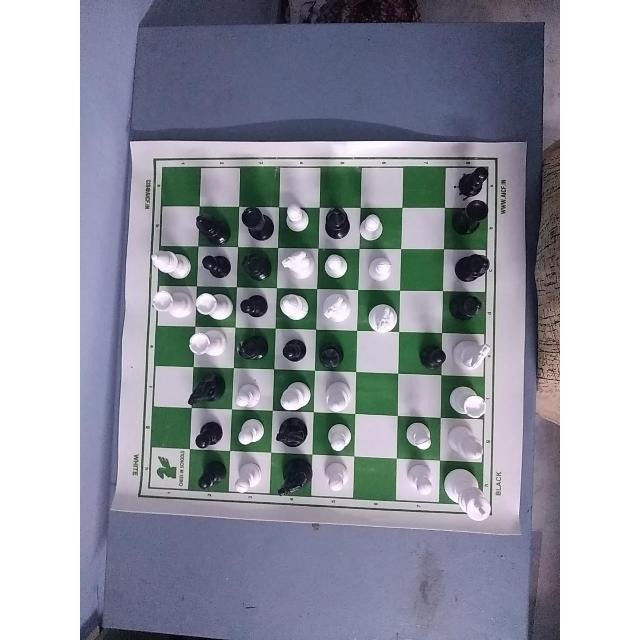black-bishop: (449, 245, 494, 287), (318, 201, 356, 244), (191, 203, 228, 244), (316, 333, 352, 375), (444, 291, 486, 322), (234, 328, 267, 367), (242, 250, 275, 282)
black-knight: (276, 453, 314, 507), (181, 367, 228, 407), (274, 415, 312, 453)
black-pawn: (452, 156, 500, 196), (188, 452, 232, 495), (270, 333, 313, 370), (186, 412, 225, 450), (239, 286, 275, 325), (198, 248, 236, 284), (416, 334, 448, 374)
black-rook: (446, 198, 501, 240), (241, 201, 275, 240)
white-bishop: (140, 243, 190, 283), (445, 425, 494, 462), (315, 373, 360, 412), (277, 285, 316, 328), (276, 379, 312, 410)
white-king: (442, 467, 497, 525)
white-knight: (358, 288, 405, 337), (281, 241, 317, 282), (452, 337, 494, 370), (318, 290, 356, 322)
white-pawn: (233, 452, 273, 495), (363, 244, 405, 284), (315, 420, 357, 458), (320, 463, 358, 502), (399, 419, 434, 457), (403, 460, 438, 496), (235, 415, 267, 451), (319, 248, 352, 281), (359, 210, 388, 244), (281, 197, 309, 232), (232, 380, 263, 411)
white-rook: (150, 281, 193, 329), (447, 378, 497, 414), (193, 291, 236, 326), (188, 330, 234, 362)
